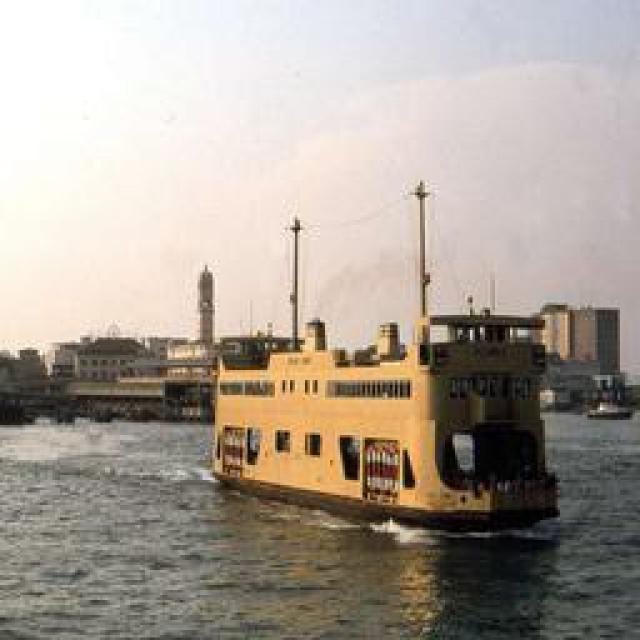Ship: (208, 240, 556, 538)
